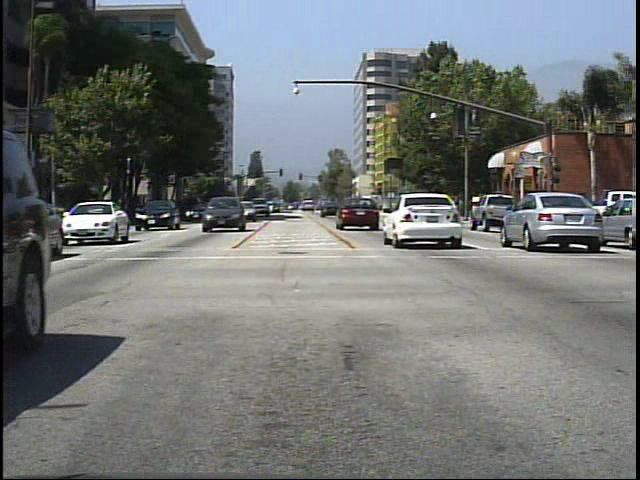person: (532, 193, 551, 228), (494, 189, 512, 224)
